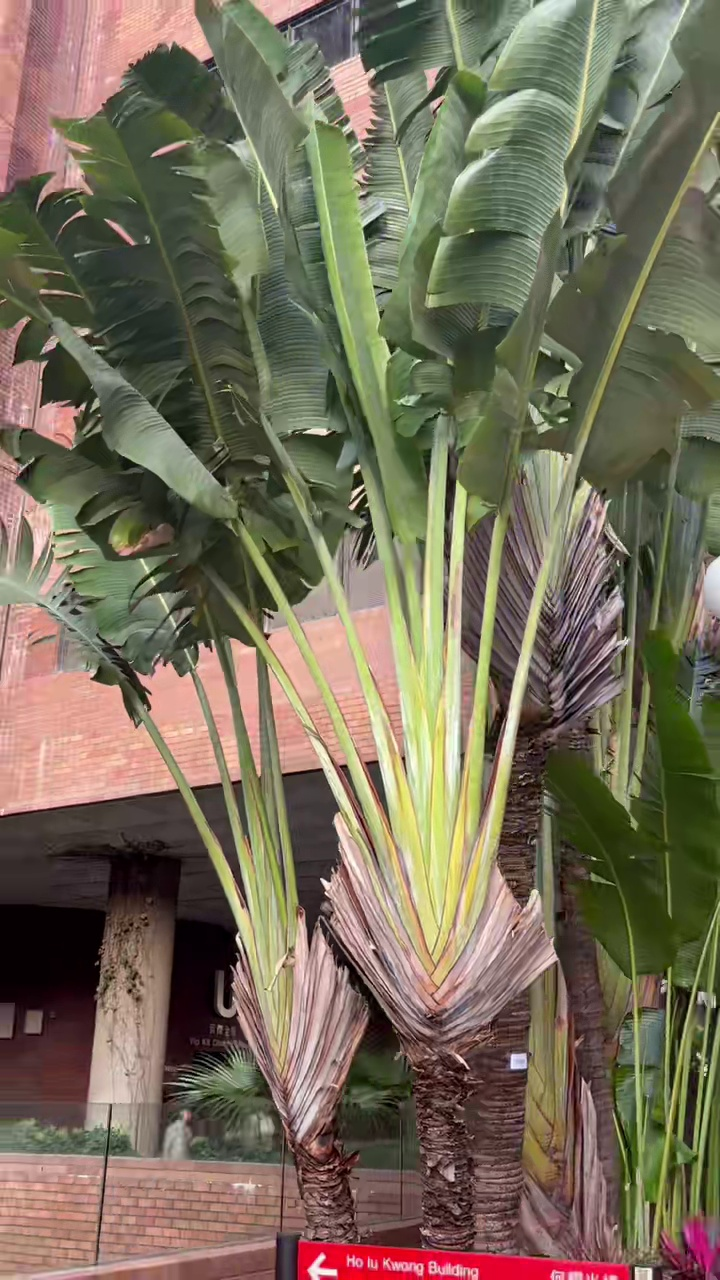Travellers-tree: (0, 0, 675, 1251)
